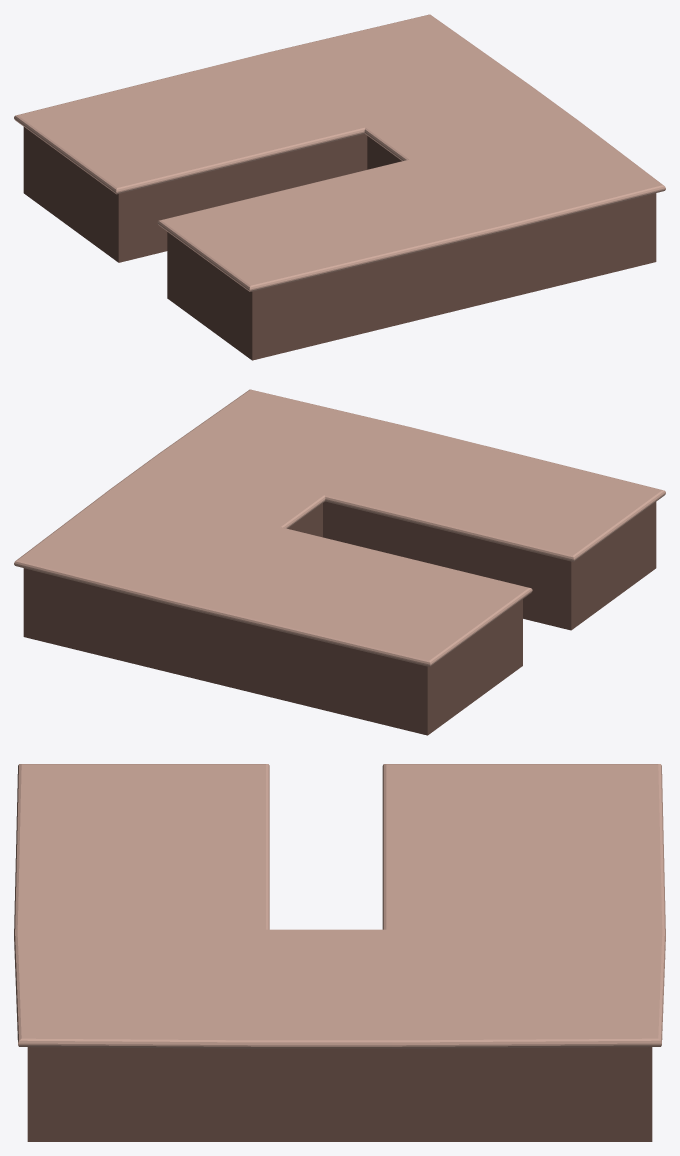
File: Counter.fbx
3 views of the same model, one above another, from view 1: azimuth 30°, elevation 25°; view 2: azimuth 150°, elevation 25°; view 3: azimuth 270°, elevation 25° (orthographic). The views are drawn at different scales.
Visible parts, largest first — view 1: Cube; view 2: Cube; view 3: Cube.
Boxes of the visible parts, box(x1,y1,x2,y2) form: Cube: box(14, 14, 665, 360); Cube: box(14, 389, 665, 735); Cube: box(14, 764, 665, 1141).
Size of the model in its own units: 4175 by 737 by 4119.
